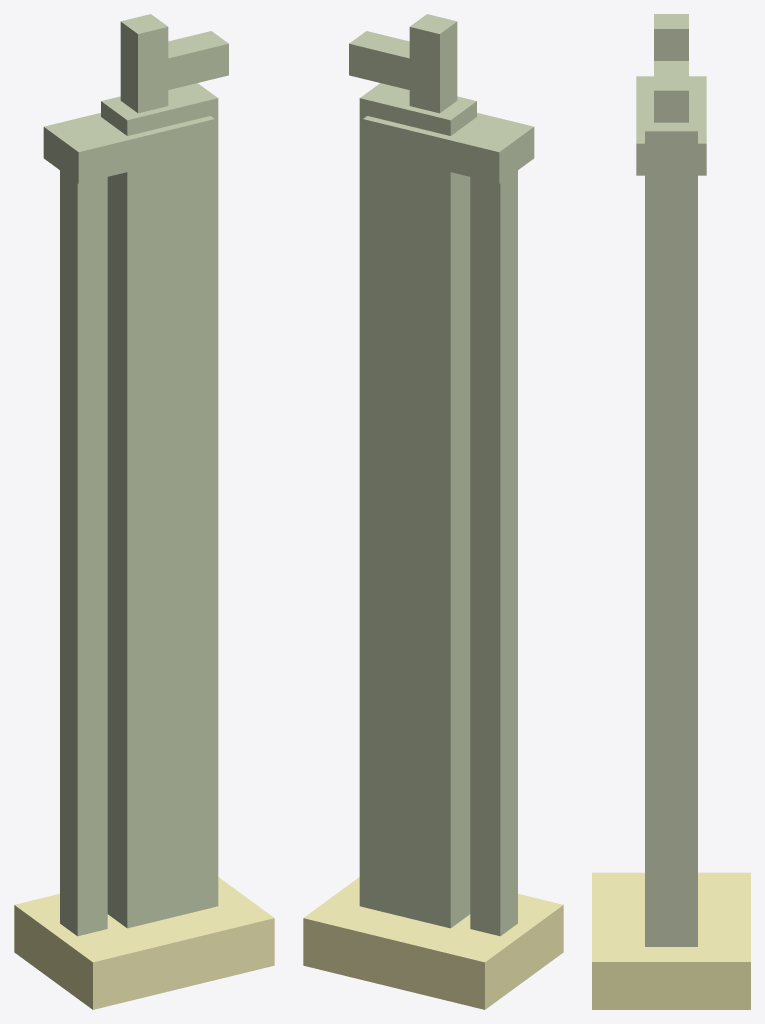
Rendered from furniture_signal_pole_riser_guard.glb.
The picture shows the model from 3 angles, left to right: view 1: azimuth 30°, elevation 25°; view 2: azimuth 150°, elevation 25°; view 3: azimuth 270°, elevation 25°; orthographic projection.
Visible parts, largest first — view 1: front_channel, rear_post, pad, top_bail, riser_conduit, elbow_stub; view 2: front_channel, rear_post, pad, top_bail, riser_conduit, elbow_stub; view 3: front_channel, pad, elbow_stub, top_bail, riser_conduit.
Boxes of the visible parts, left/top/right/bottom form: front_channel: left=101, top=83, right=218, bottom=928; rear_post: left=60, top=170, right=107, bottom=936; pad: left=14, top=877, right=274, bottom=1009; top_bail: left=43, top=113, right=214, bottom=183; riser_conduit: left=120, top=14, right=168, bottom=113; elbow_stub: left=120, top=31, right=228, bottom=97; front_channel: left=359, top=83, right=476, bottom=928; rear_post: left=470, top=170, right=517, bottom=936; pad: left=303, top=877, right=563, bottom=1009; top_bail: left=363, top=113, right=534, bottom=183; riser_conduit: left=409, top=14, right=457, bottom=113; elbow_stub: left=349, top=31, right=457, bottom=96; front_channel: left=645, top=86, right=697, bottom=946; pad: left=592, top=872, right=750, bottom=1009; elbow_stub: left=654, top=61, right=688, bottom=122; top_bail: left=636, top=76, right=706, bottom=175; riser_conduit: left=654, top=14, right=688, bottom=60.
Bounding box in the file's own units: 0.24 × 1.18 × 0.18.
